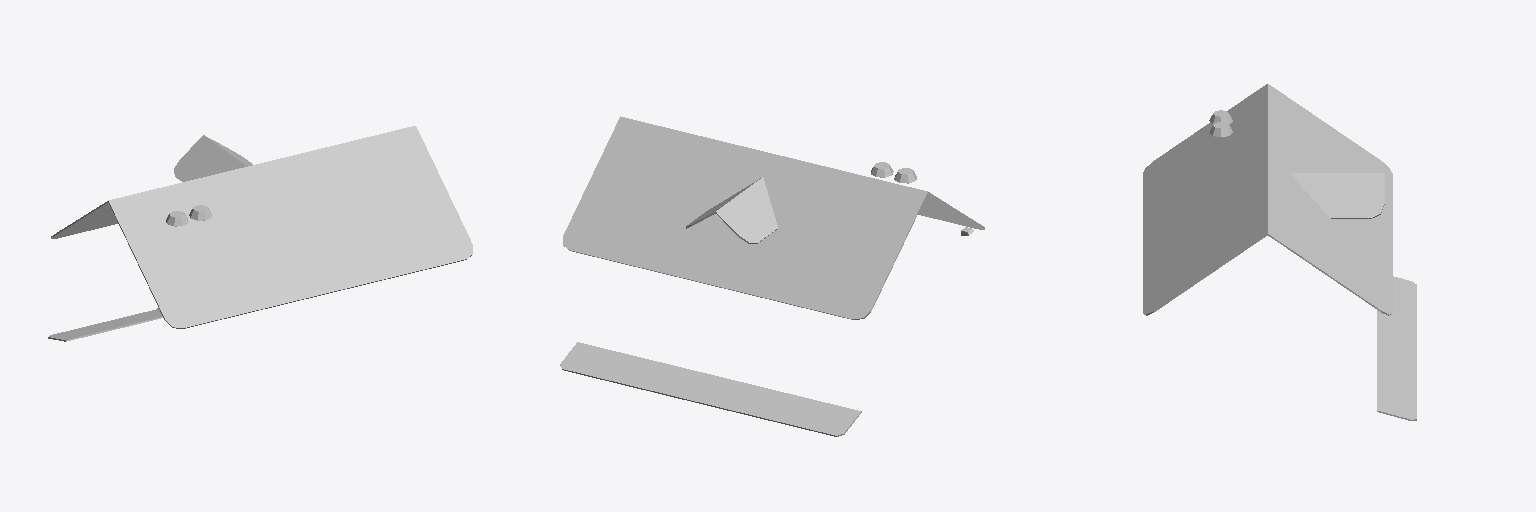
Rendered from building-type-e_roof.obj.
The picture shows the model from 3 angles: view 1: azimuth 30°, elevation 25°; view 2: azimuth 150°, elevation 25°; view 3: azimuth 270°, elevation 25°; orthographic projection.
Parts seen in each view (by area): view 1: building-type-e.001; view 2: building-type-e.001; view 3: building-type-e.001.
Part boxes in pixels (bbox=[...]): building-type-e.001: bbox=[48, 126, 472, 341]; building-type-e.001: bbox=[560, 116, 984, 436]; building-type-e.001: bbox=[1143, 84, 1416, 420].
Bounding box in the file's own units: 1.3 × 0.7876 × 1.01.